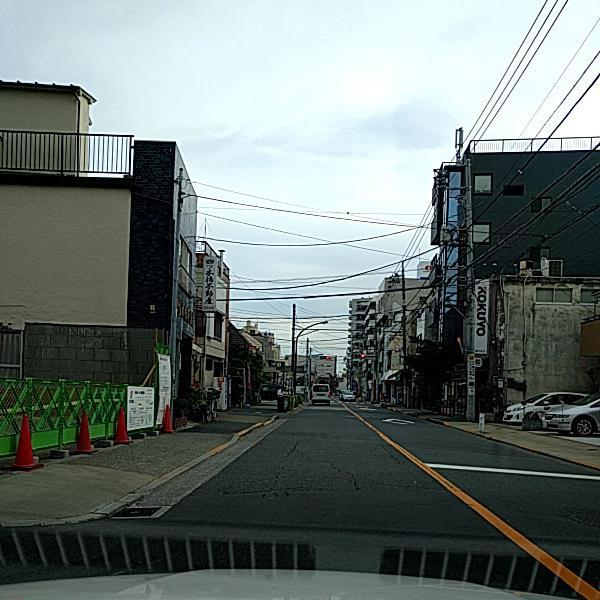D00: (258, 436, 303, 490), (324, 458, 363, 491), (379, 443, 399, 462)
